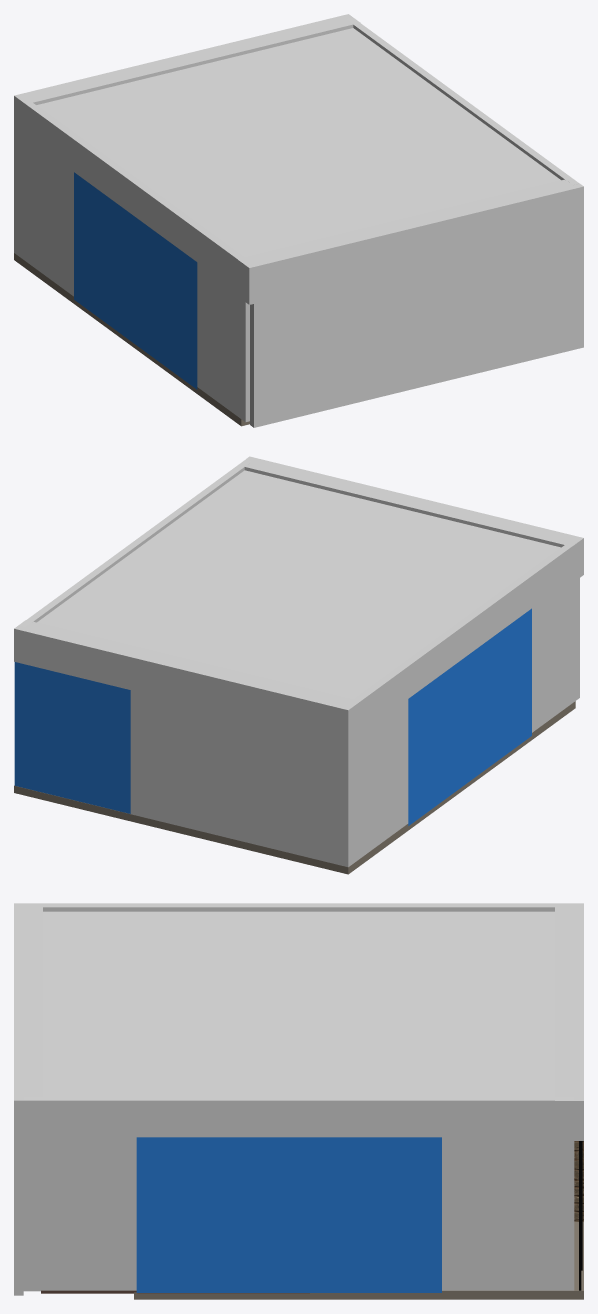
The model's file is lobby_cut.fbx.
3 views of the same model, one above another, from view 1: azimuth 30°, elevation 25°; view 2: azimuth 150°, elevation 25°; view 3: azimuth 270°, elevation 25° (orthographic). The views are drawn at different scales.
Visible parts, largest first — view 1: Cube_002, WALL_001, Wall_001, WINDOW_3, WALL, Wall_002, Ground; view 2: Cube_002, WALL, Wall_001, WINDOW_3, WINDOW_6, WALL_001, Ground, Wall_002; view 3: Cube_002, Wall_002, WINDOW_4, WALL_001, WALL, Wall_001, Ground, WINDOW_2, DECK.
Boxes of the visible parts, x1=… form: Cube_002: x1=36, y1=28, x2=560, y2=257; WALL_001: x1=237, y1=179, x2=583, y2=427; Wall_001: x1=18, y1=97, x2=251, y2=422; WINDOW_3: x1=74, y1=172, x2=197, y2=389; WALL: x1=14, y1=14, x2=360, y2=255; Wall_002: x1=345, y1=17, x2=579, y2=185; Ground: x1=14, y1=253, x2=249, y2=426; Cube_002: x1=37, y1=470, x2=560, y2=699; WALL: x1=14, y1=620, x2=352, y2=867; Wall_001: x1=346, y1=539, x2=579, y2=863; WINDOW_3: x1=408, y1=608, x2=531, y2=825; WINDOW_6: x1=14, y1=662, x2=130, y2=813; WALL_001: x1=244, y1=456, x2=583, y2=583; Ground: x1=14, y1=701, x2=575, y2=874; Wall_002: x1=18, y1=459, x2=252, y2=627; Cube_002: x1=43, y1=911, x2=554, y2=1096; Wall_002: x1=23, y1=1096, x2=574, y2=1290; WINDOW_4: x1=136, y1=1137, x2=441, y2=1292; WALL_001: x1=14, y1=903, x2=42, y2=1295; WALL: x1=555, y1=903, x2=583, y2=1221; Wall_001: x1=23, y1=903, x2=574, y2=911; Ground: x1=134, y1=1222, x2=583, y2=1299; WINDOW_2: x1=579, y1=1141, x2=582, y2=1290; DECK: x1=41, y1=1290, x2=309, y2=1293.
Size of the model in its own units: 729 by 341 by 887.
